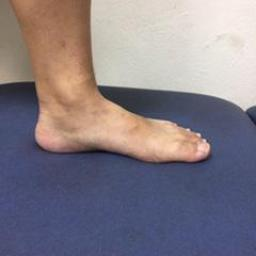Medial View -Left Foot-: (26, 67, 214, 177)
